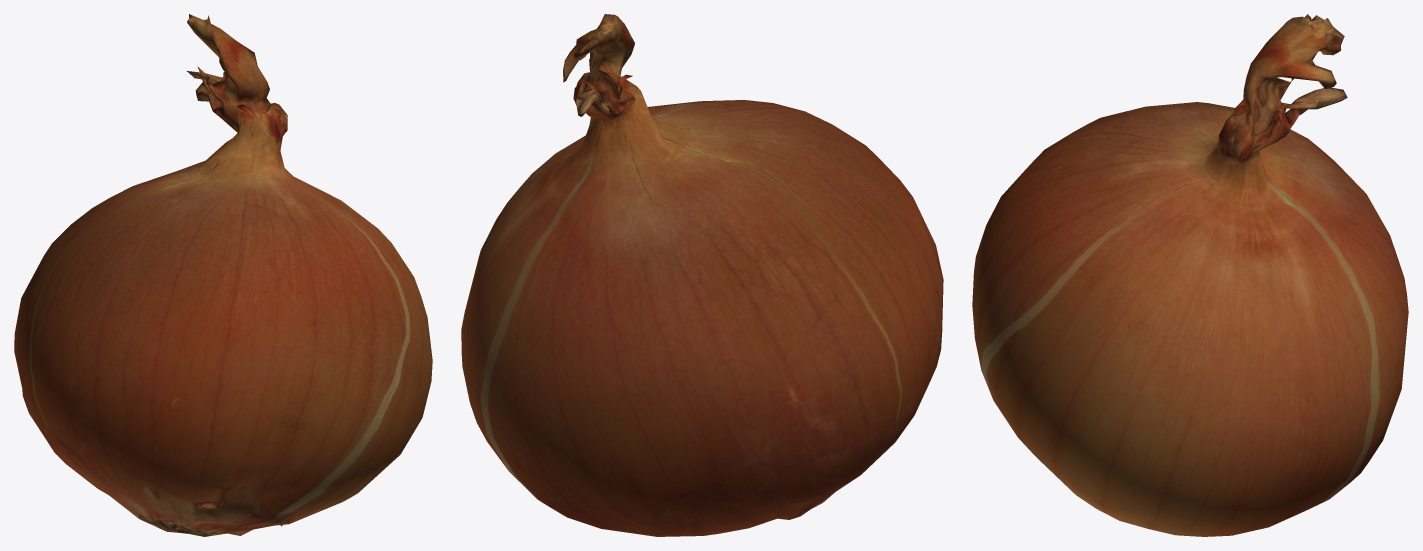
File: prod_onion.glb
The picture shows the model from 3 angles, left to right: view 1: azimuth 30°, elevation 25°; view 2: azimuth 150°, elevation 25°; view 3: azimuth 270°, elevation 25°; orthographic projection. The views are drawn at different scales.
Visible parts, largest first — view 1: yellow_onion; view 2: yellow_onion; view 3: yellow_onion.
Part boxes in pixels (x1,y1,x2,y2): yellow_onion: (14, 14, 432, 536); yellow_onion: (461, 14, 943, 536); yellow_onion: (972, 14, 1408, 536).
Bounding box in the file's own units: 0.0724 × 0.0864 × 0.0685.
Materials: 1 (1 with a texture image).
